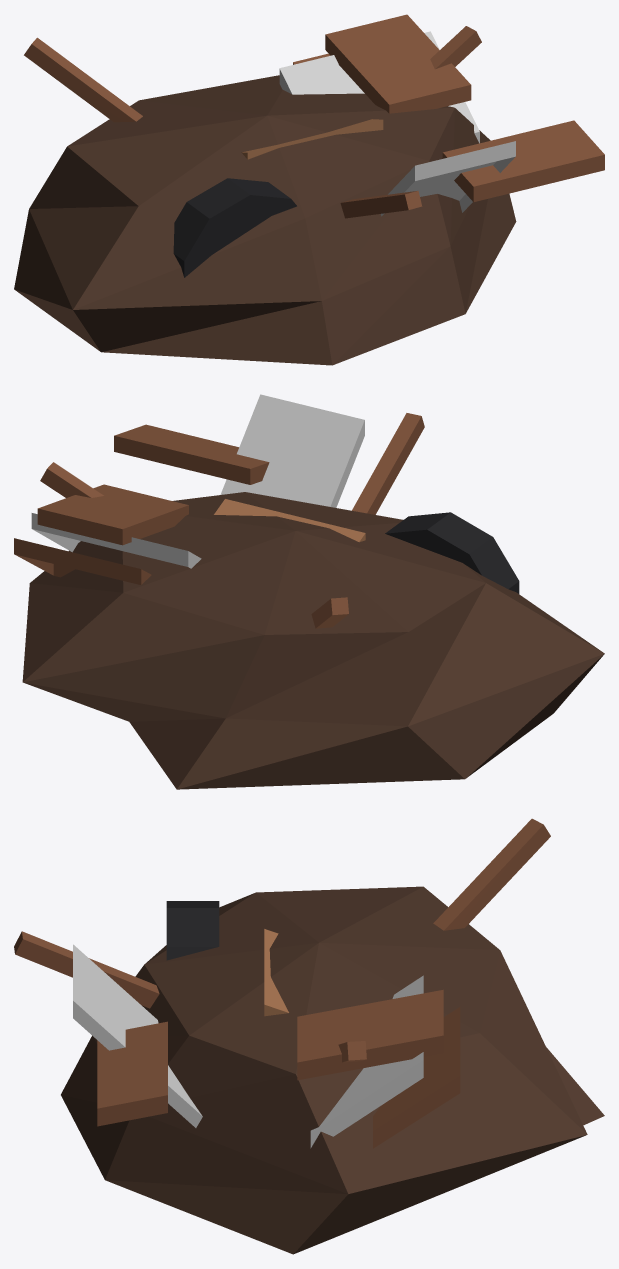
The model's file is junk_2.obj.
The picture shows the model from 3 angles, top to bottom: view 1: azimuth 30°, elevation 25°; view 2: azimuth 150°, elevation 25°; view 3: azimuth 270°, elevation 25°; orthographic projection. The views are drawn at different scales.
Parts seen in each view (by area): view 1: junk_2; view 2: junk_2; view 3: junk_2.
Boxes of the visible parts, x1,y1,x2,y2 form: junk_2: [14, 14, 604, 365]; junk_2: [14, 394, 604, 789]; junk_2: [14, 818, 604, 1254].
Bounding box in the file's own units: 0.9872 × 0.3745 × 0.8993.
